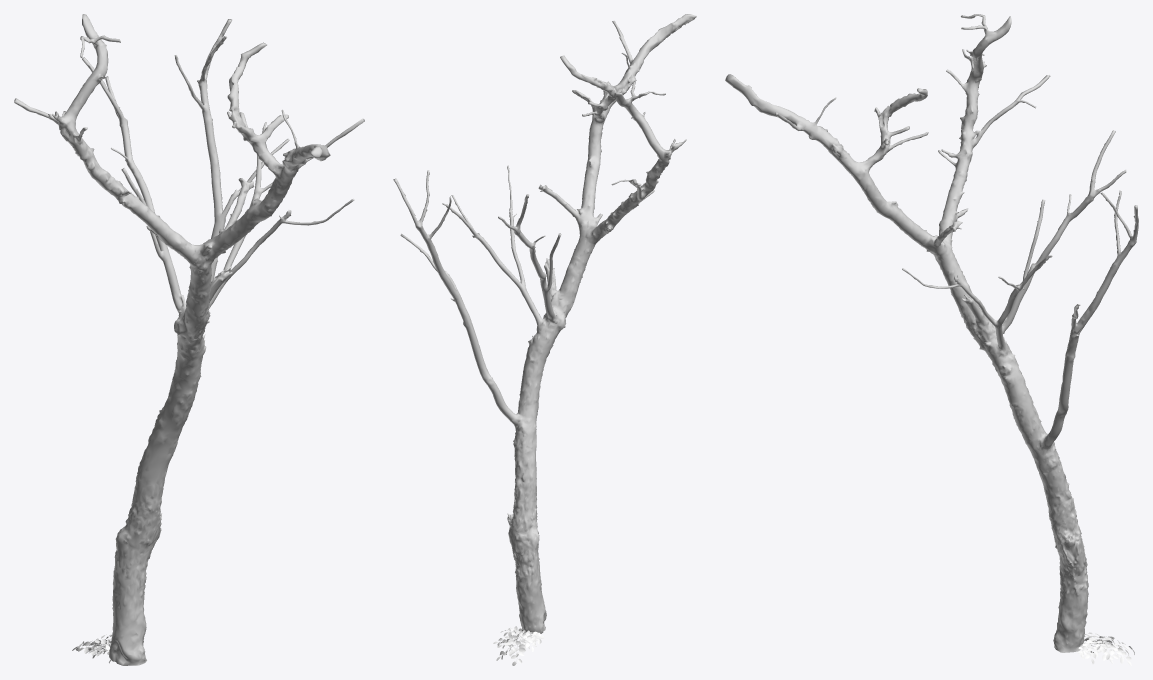
File: tree_small_02_1k.glb
3 views of the same model, side by side, from view 1: azimuth 30°, elevation 25°; view 2: azimuth 150°, elevation 25°; view 3: azimuth 270°, elevation 25° (orthographic). The views are drawn at different scales.
Parts seen in each view (by area): view 1: tree_small_02_trunk; view 2: tree_small_02_trunk, tree_small_02_leaves_b_LOD0; view 3: tree_small_02_trunk.
Boxes of the visible parts, left/top/right/bottom form: tree_small_02_trunk: left=14, top=14, right=364, bottom=665; tree_small_02_trunk: left=393, top=14, right=696, bottom=634; tree_small_02_leaves_b_LOD0: left=496, top=626, right=544, bottom=665; tree_small_02_trunk: left=725, top=14, right=1138, bottom=652.
Size of what is drawn, in the model's own units: 1.7 by 3.77 by 2.32.
Materials: 2 (1 with a texture image).
